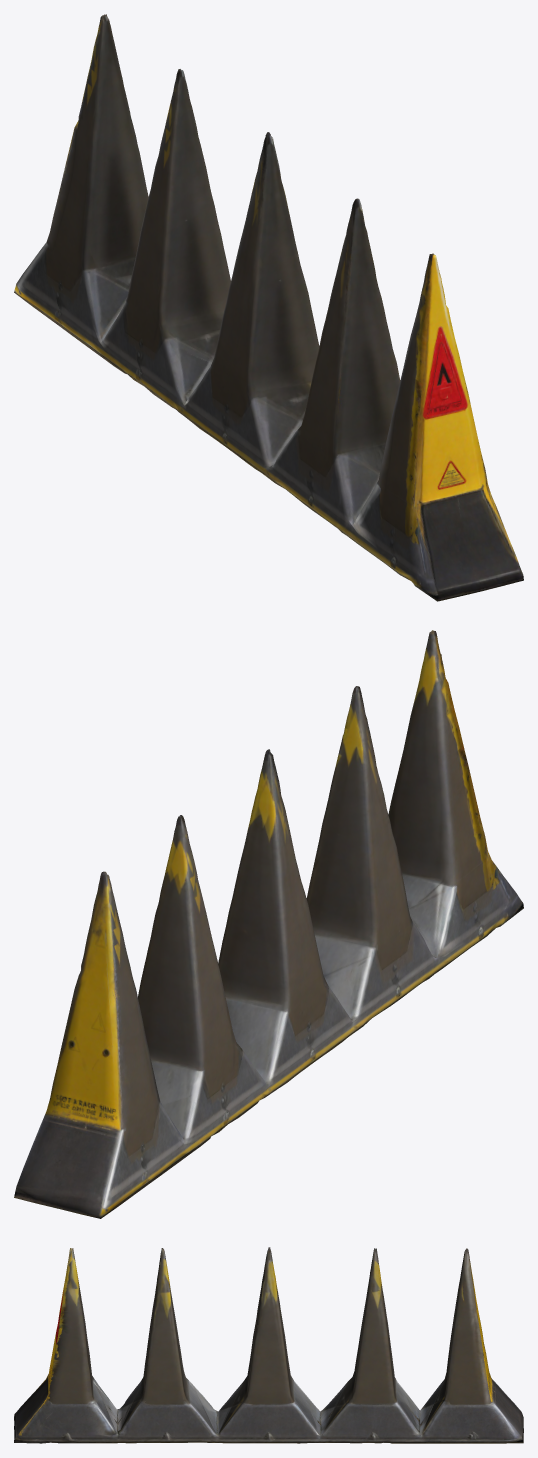
Rendered from a8c62593-dce4-4314-b3df-f37ed66524ee.glb.
3 renders of one model, top to bottom at view 1: azimuth 30°, elevation 25°; view 2: azimuth 150°, elevation 25°; view 3: azimuth 270°, elevation 25°, orthographic. The views are drawn at different scales.
Bounding box in the file's own units: 0.2415 × 0.7951 × 2.
1 material, 1 textured.
